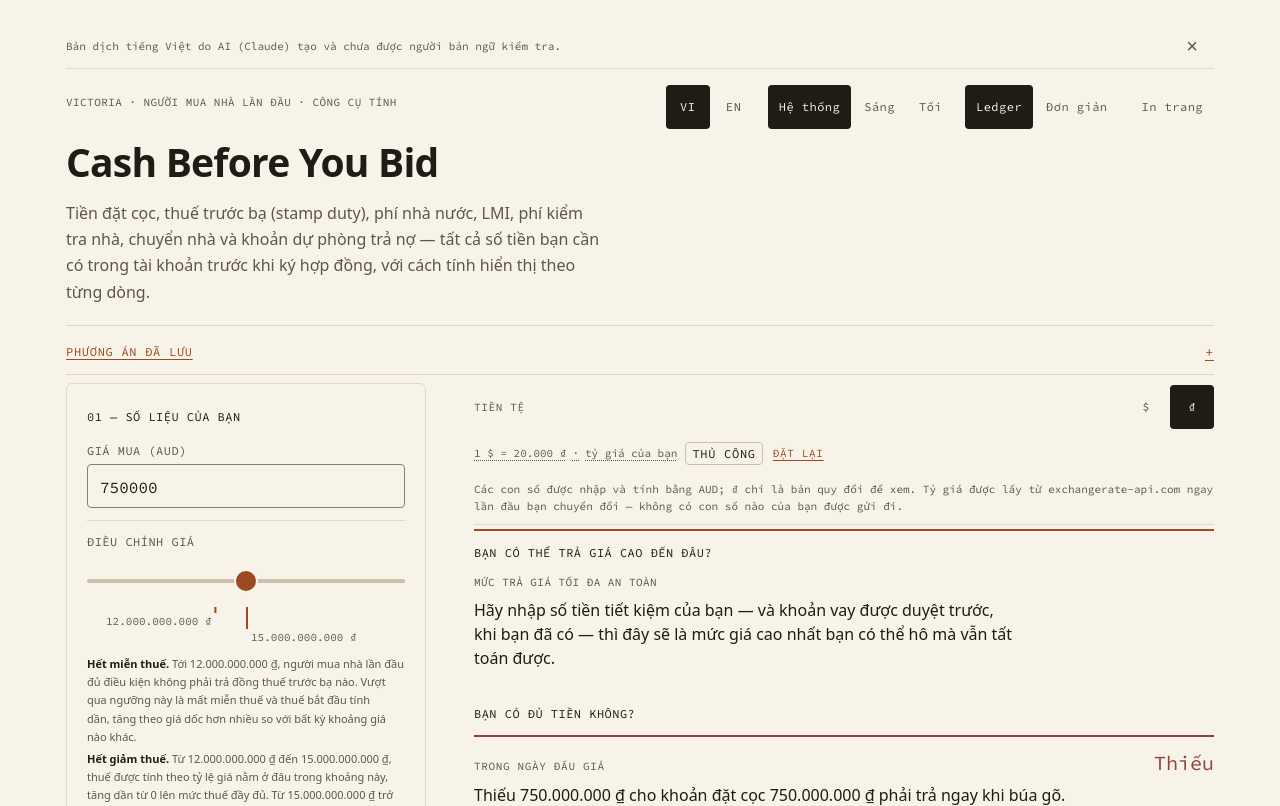
Scenario: the exchange rate › keeps a manual rate through a round trip back to dollars
The width and height of the screenshot is (1280, 806).
Check: the field labelled "Giá mua (AUD)" is shown, box [87,464,405,508]
Click the button named "Đô la Úc": (1146, 407) [1124,385,1168,429]
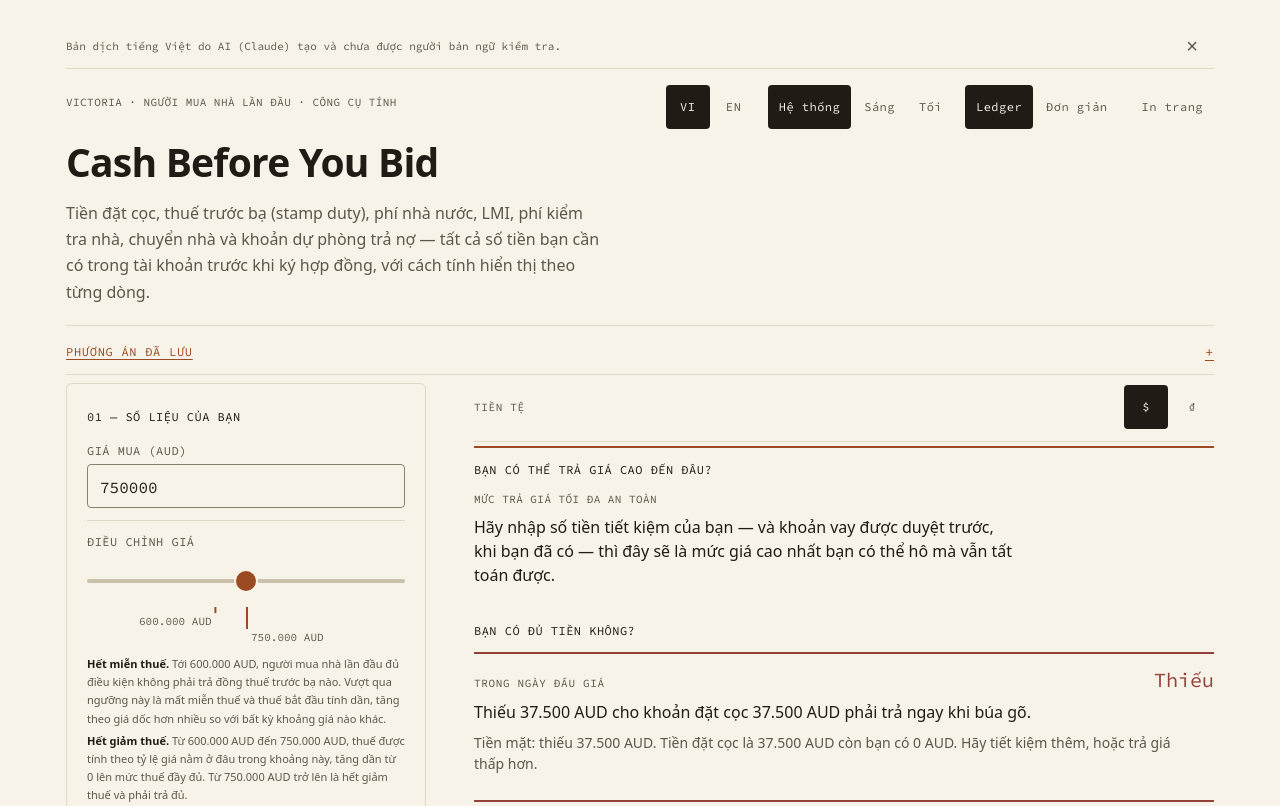
Click the button named "Đồng Việt Nam": (1192, 407) [1170,385,1214,429]
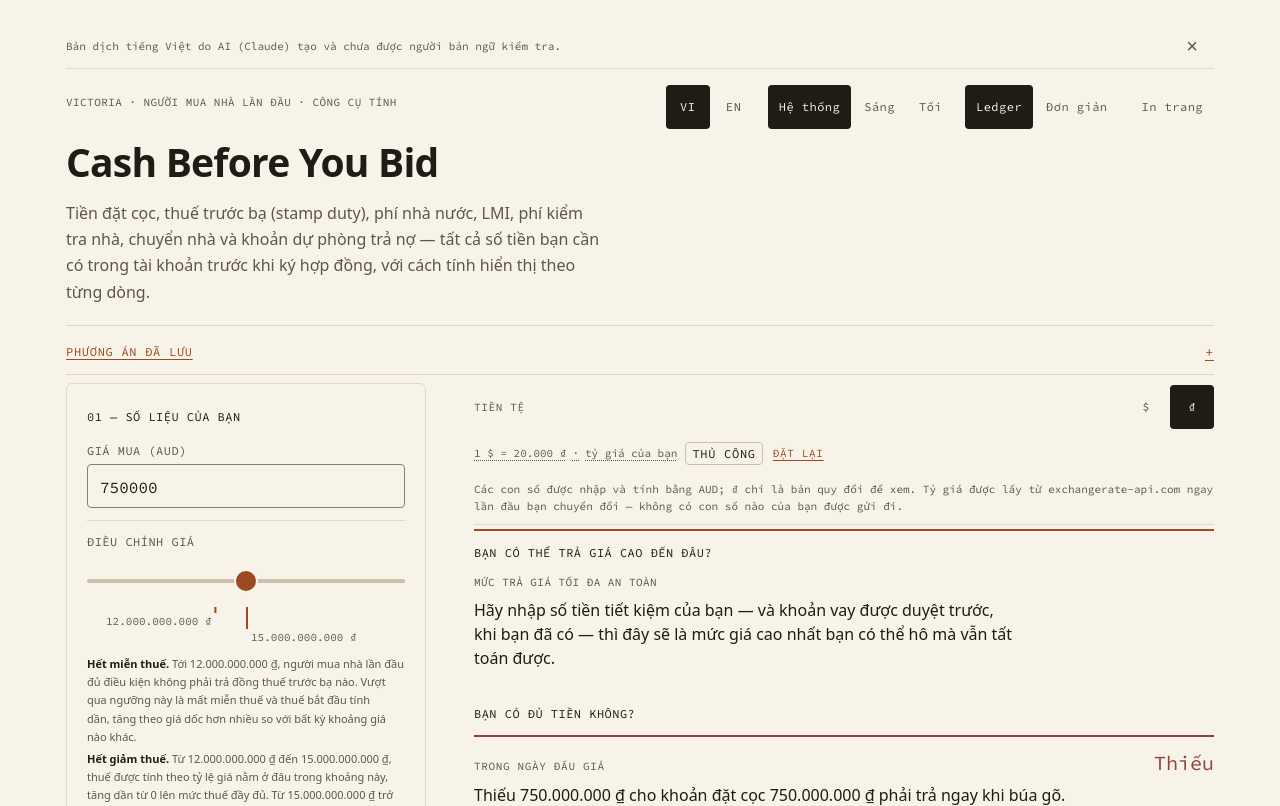
Check: the text "THỦ CÔNG" is shown, box [685,442,763,465]
